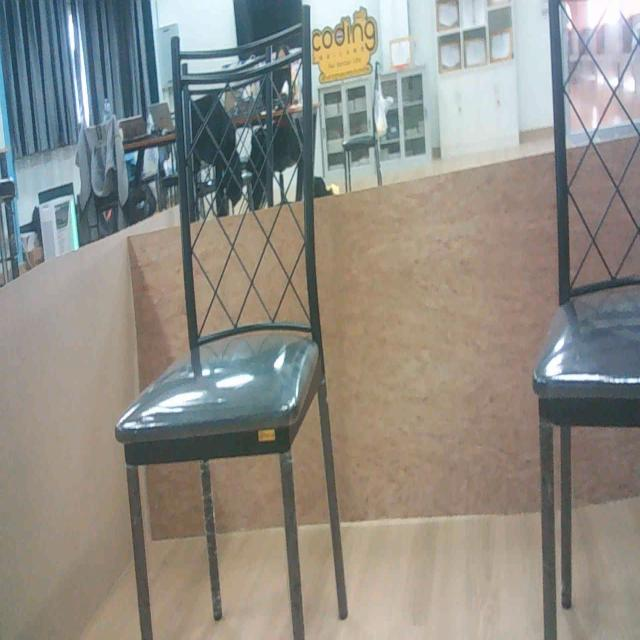emtpy: (123, 4, 338, 640), (509, 0, 640, 640)
